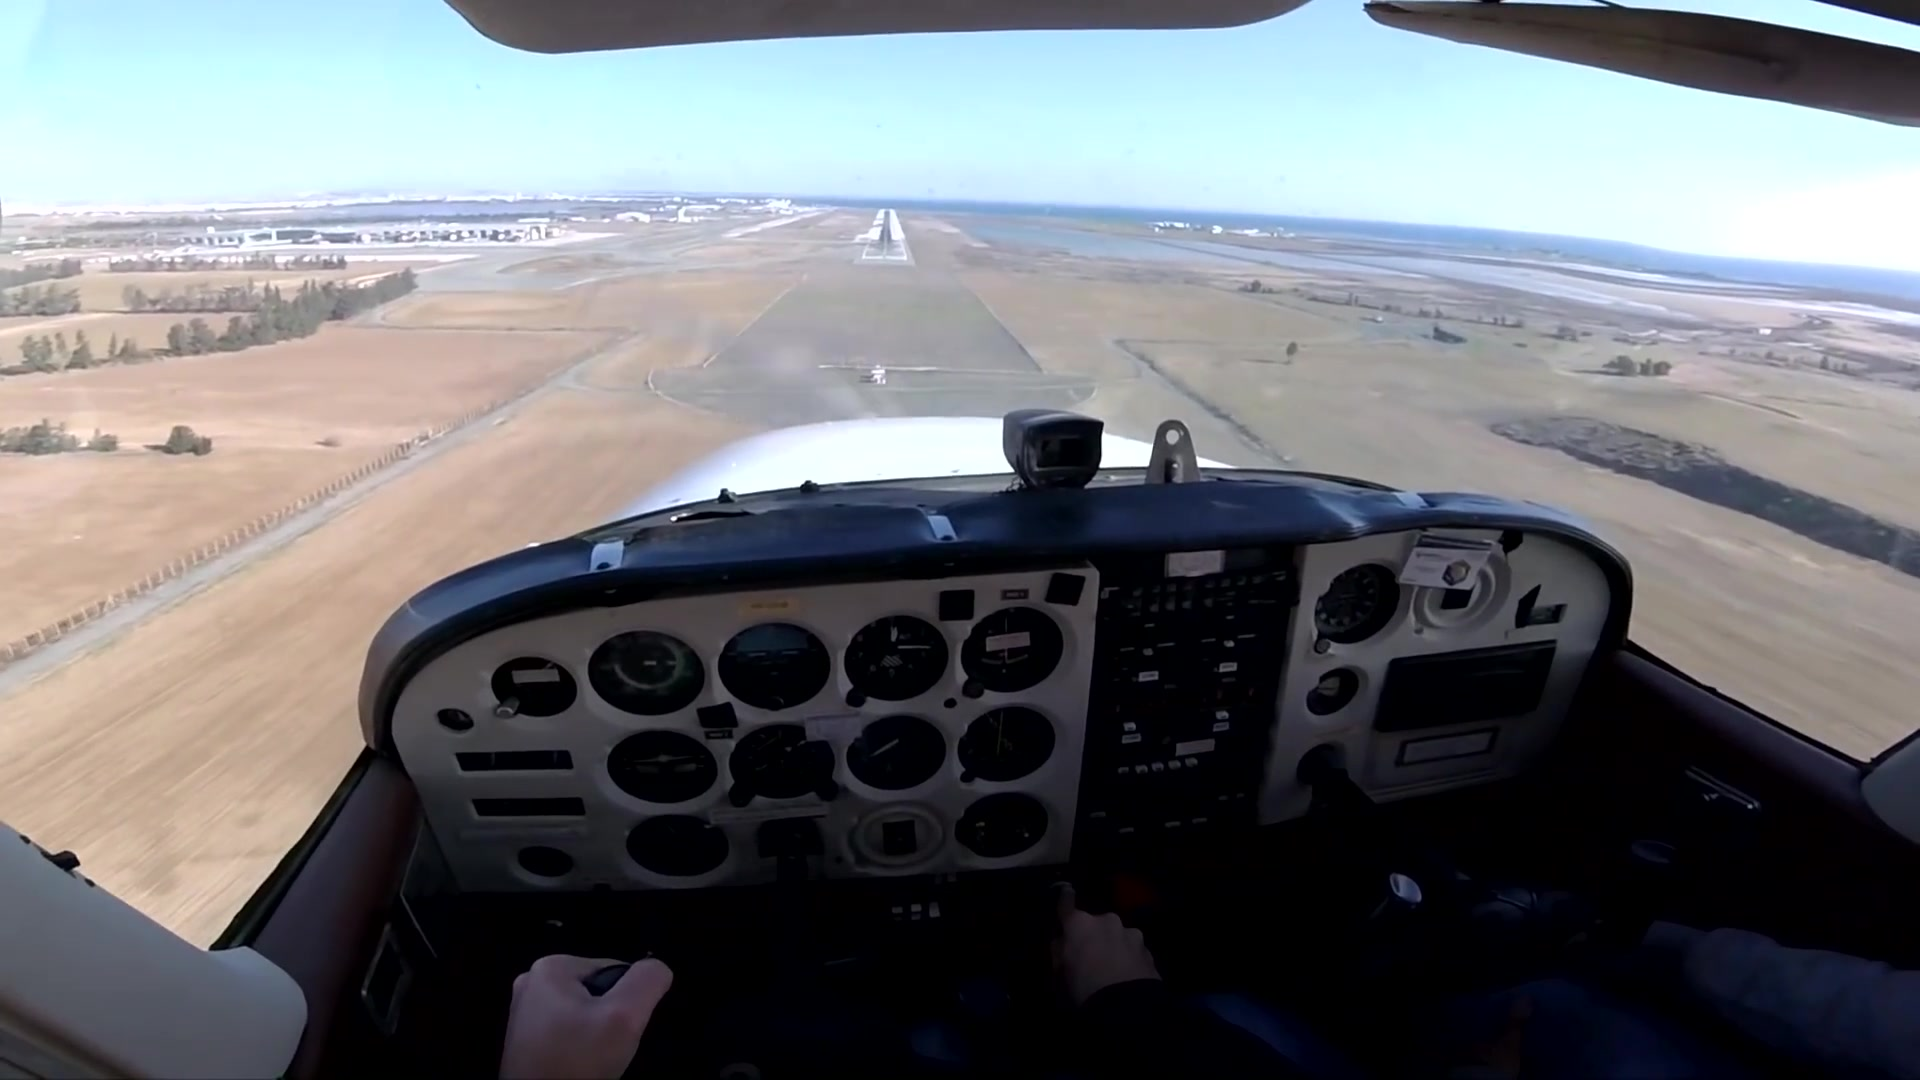runway: (855, 210, 914, 265)
